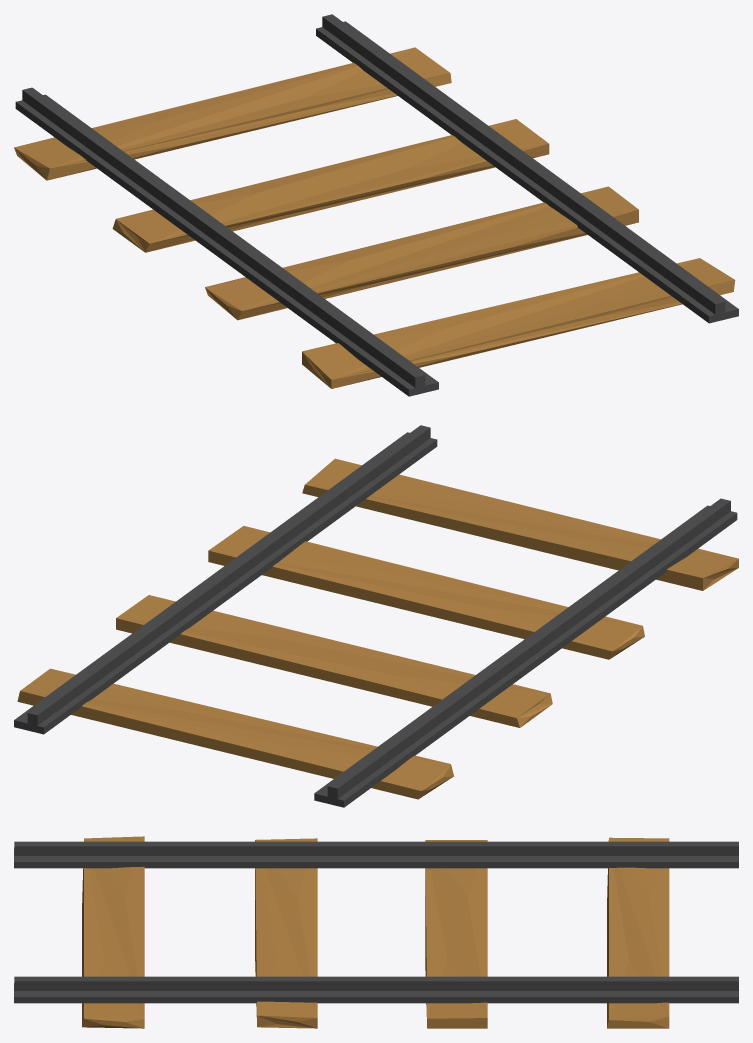
Rendered from Model_Track_Straight.FBX.
3 renders of one model, top to bottom at view 1: azimuth 30°, elevation 25°; view 2: azimuth 150°, elevation 25°; view 3: azimuth 270°, elevation 25°, orthographic. The views are drawn at different scales.
Parts seen in each view (by area): view 1: Track_Staight, Object030; view 2: Track_Staight, Object030; view 3: Track_Staight, Object030.
Part boxes in pixels (bbox=[...]): Track_Staight: bbox=[14, 14, 738, 396]; Object030: bbox=[332, 260, 726, 387]; Track_Staight: bbox=[14, 425, 738, 807]; Object030: bbox=[302, 459, 728, 586]; Track_Staight: bbox=[14, 836, 738, 1028]; Object030: bbox=[82, 837, 142, 1025].
Bounding box in the file's own units: 203 × 13.48 × 343.
